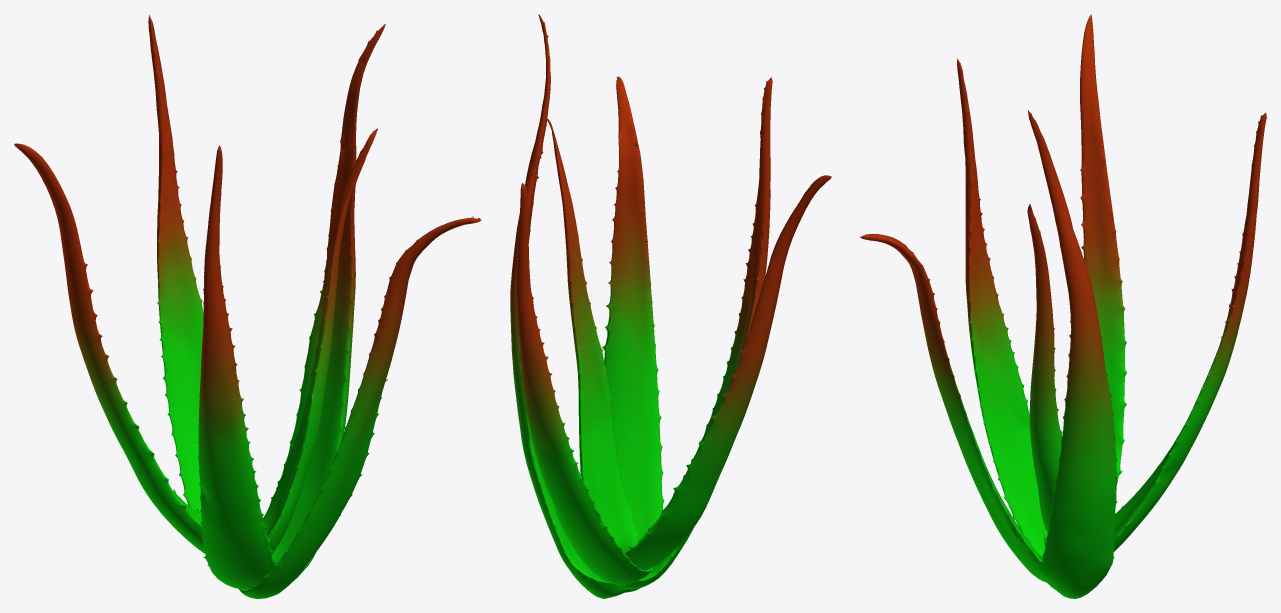
Rendered from Aloe Vera_LOD1_Var1_ve4tbbrha.fbx.
3 views of the same model, side by side, from view 1: azimuth 30°, elevation 25°; view 2: azimuth 150°, elevation 25°; view 3: azimuth 270°, elevation 25° (orthographic). The views are drawn at different scales.
Parts seen in each view (by area): view 1: _na9n_Var1_LOD1; view 2: _na9n_Var1_LOD1; view 3: _na9n_Var1_LOD1.
Part boxes in pixels (<box>): _na9n_Var1_LOD1: <box>14,14,481,598</box>; _na9n_Var1_LOD1: <box>510,14,831,598</box>; _na9n_Var1_LOD1: <box>860,14,1266,598</box>.
Bounding box in the file's own units: 31.64 × 49.4 × 34.43.
